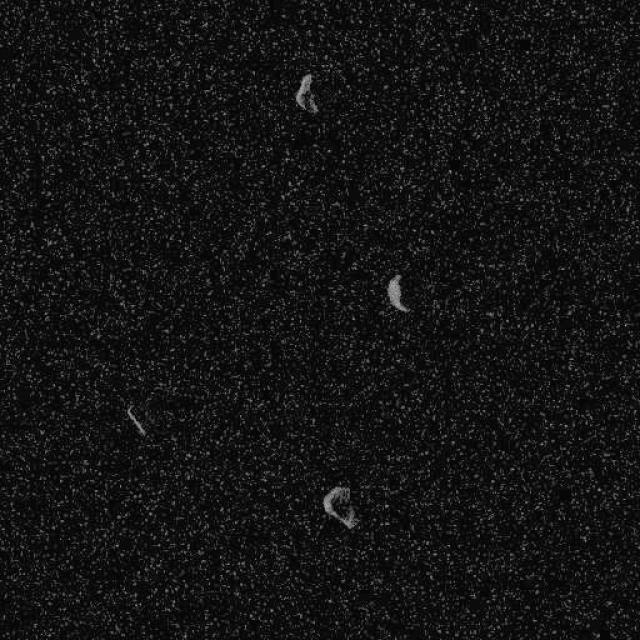D2: (322, 485, 358, 530), (385, 272, 410, 314), (294, 73, 318, 114), (125, 404, 146, 436)
